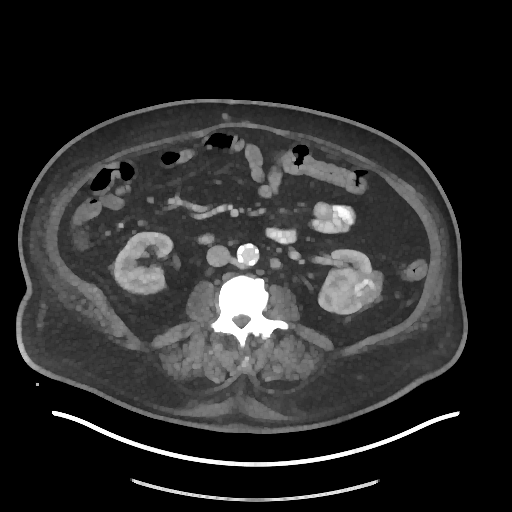Lesion: (352, 268, 387, 311)
